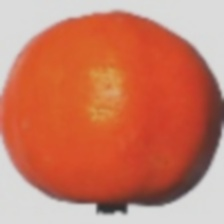tangerine: (24, 57, 183, 204)
